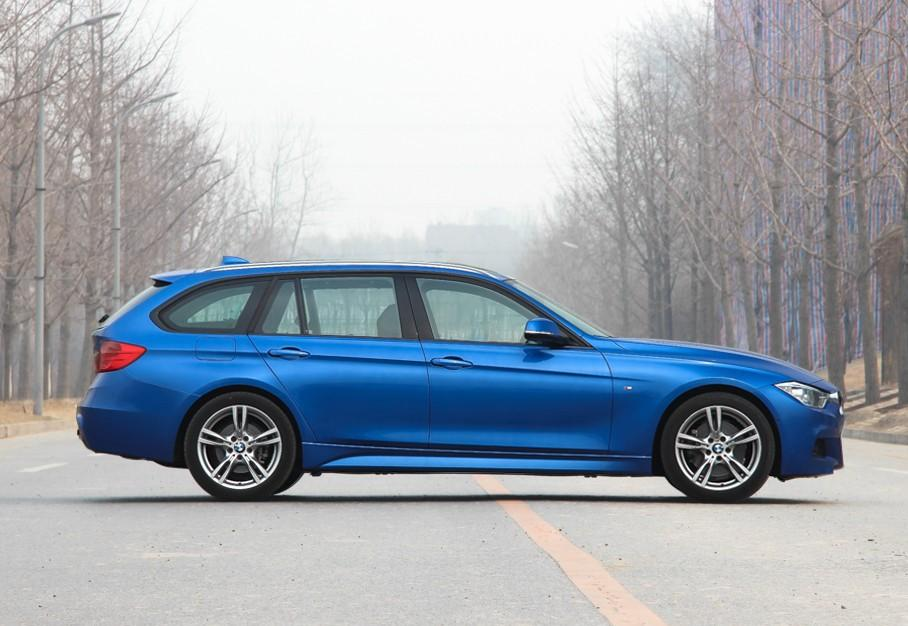Wagon: (76, 254, 845, 502)
